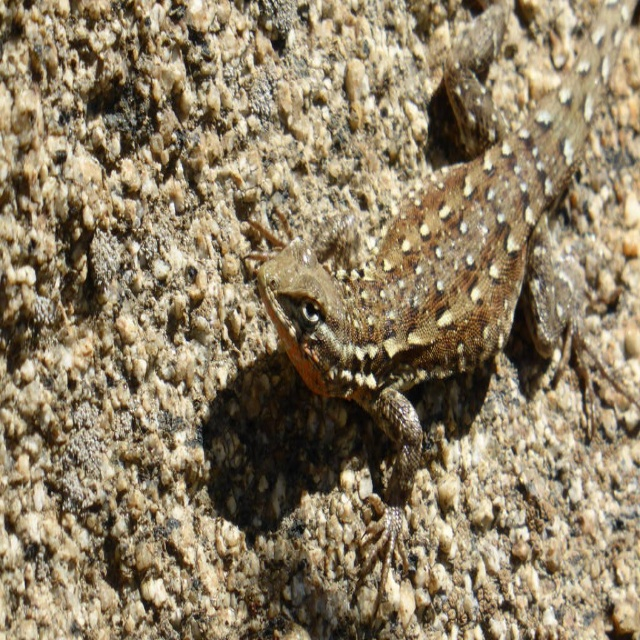Lizard: (257, 5, 638, 600)
